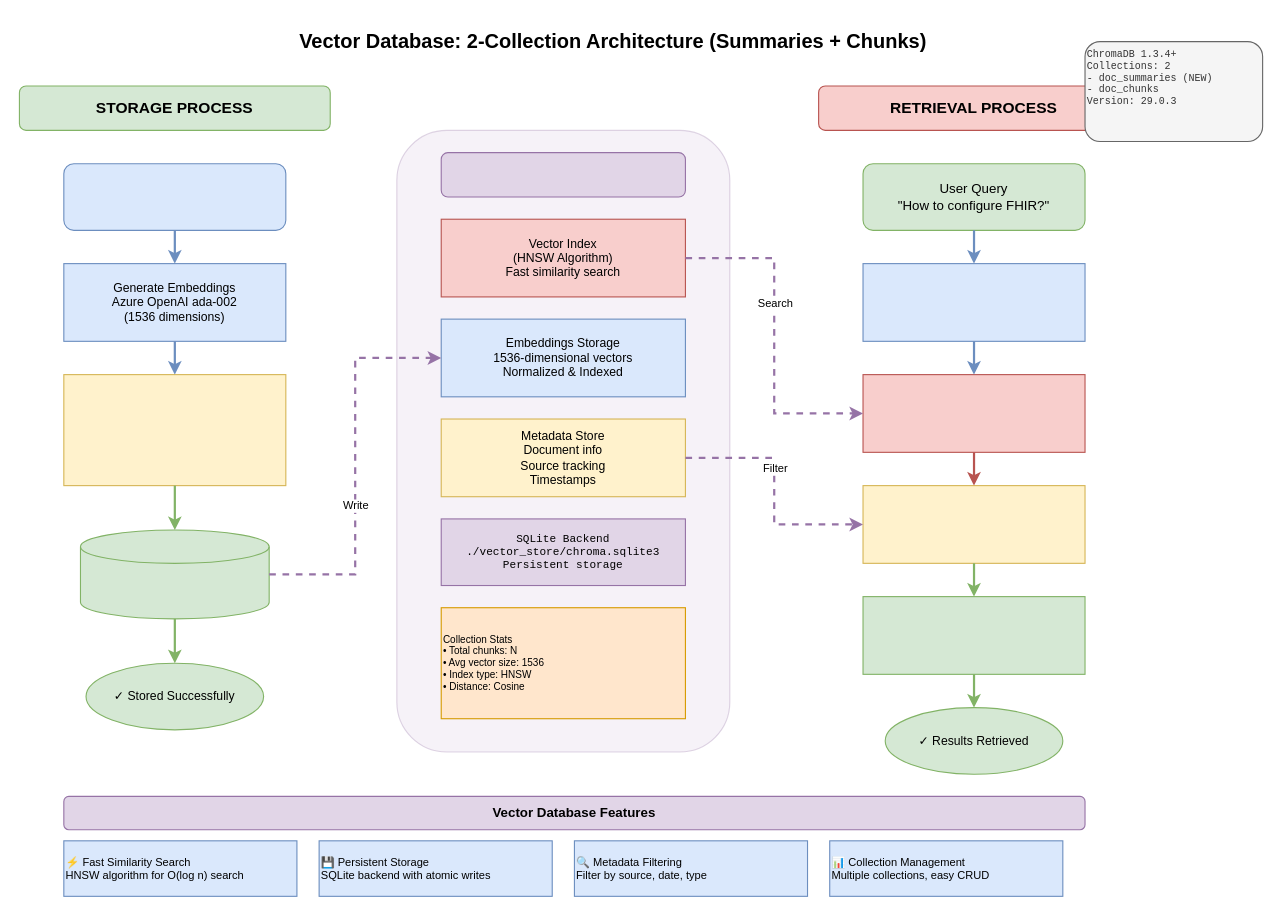
Image size: 1282x916. Some labels were removed from this diagram. The centre of each missing label's shape, as x and y in pixels:
ChromaDB Collection "rag_documents": [174,574]
ChromaDB Vector Store: [562,174]
Document Chunks (After Processing): [174,196]
Filter by Metadata • Source type • Date range • Document type: [973,524]
Generate Query Embedding Azure OpenAI ada-002 (1536 dimensions): [973,302]
Prepare Metadata • source • title • chunk_id • timestamp • doc_hash: [174,430]
Return Ranked Results with Metadata & Relevance Scores: [973,635]
Similarity Search Cosine Distance Top K = 20: [973,413]
